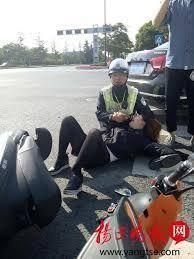Fall-Detected: (39, 105, 174, 186)
